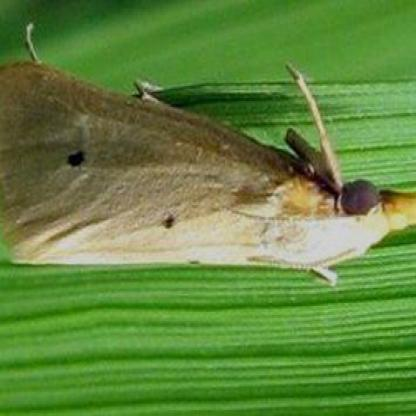stem-borer: (0, 55, 416, 278)
